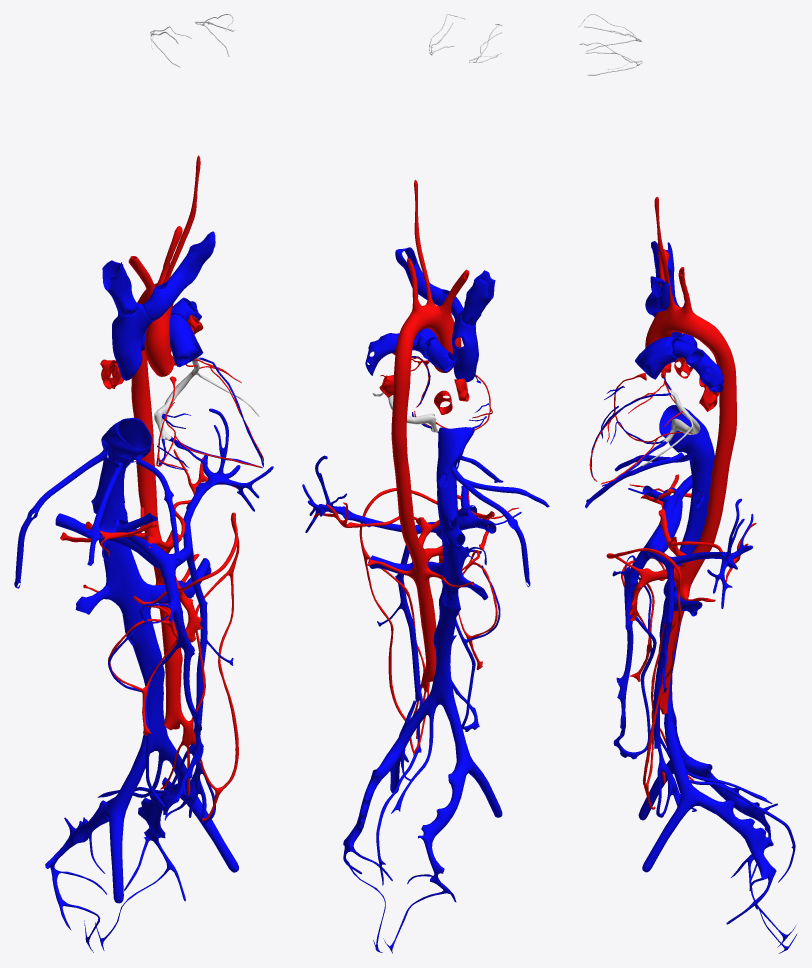
File: vh_m_blood_vasculature-20.fbx
3 views of the same model, side by side, from view 1: azimuth 30°, elevation 25°; view 2: azimuth 150°, elevation 25°; view 3: azimuth 270°, elevation 25° (orthographic). The views are drawn at different scales.
Parts seen in each view (by area): view 1: VH_M_inferior_vena_cava_b, VH_M_descending_aorta_b, VH_M_superior_mesenteric_vein, VH_M_inferior_vena_cava_a, VH_M_splenic_vein, VH_M_brachiocephalic_vein_L, VH_M_superior_vena_cava, VH_M_marginal_artery_of_Drummond, VH_M_descending_aorta_a, VH_M_brachiocephalic_vein_R, VH_M_inferior_mesenteric_vein, VH_M_pulmonary_trunk (+18 smaller); view 2: VH_M_inferior_vena_cava_b, VH_M_descending_aorta_b, VH_M_descending_aorta_a, VH_M_inferior_vena_cava_a, VH_M_internal_iliac_vein_R, VH_M_aortic_arch, VH_M_superior_vena_cava, VH_M_splenic_vein, VH_M_internal_iliac_vein_L, VH_M_brachiocephalic_vein_R, VH_M_brachiocephalic_vein_L, VH_M_marginal_artery_of_Drummond (+8 smaller); view 3: VH_M_descending_aorta_a, VH_M_descending_aorta_b, VH_M_inferior_vena_cava_b, VH_M_inferior_vena_cava_a, VH_M_internal_iliac_vein_L, VH_M_aortic_arch, VH_M_splenic_vein, VH_M_superior_mesenteric_vein, VH_M_pulmonary_artery_L, VH_M_inferior_mesenteric_vein, VH_M_internal_iliac_vein_R, VH_M_marginal_artery_of_Drummond (+13 smaller).
Boxes of the visible parts, x1,y1,x2,y2 form: VH_M_inferior_vena_cava_b: [91, 473, 169, 753]; VH_M_descending_aorta_b: [136, 459, 182, 730]; VH_M_superior_mesenteric_vein: [158, 564, 203, 812]; VH_M_inferior_vena_cava_a: [101, 417, 152, 482]; VH_M_splenic_vein: [170, 408, 273, 567]; VH_M_brachiocephalic_vein_L: [142, 231, 215, 321]; VH_M_superior_vena_cava: [112, 303, 152, 380]; VH_M_marginal_artery_of_Drummond: [179, 512, 239, 821]; VH_M_descending_aorta_a: [131, 297, 154, 461]; VH_M_brachiocephalic_vein_R: [102, 260, 137, 315]; VH_M_inferior_mesenteric_vein: [186, 548, 207, 755]; VH_M_pulmonary_trunk: [169, 313, 203, 367]; VH_M_inferior_vena_cava_b: [429, 489, 465, 707]; VH_M_descending_aorta_b: [396, 486, 436, 682]; VH_M_descending_aorta_a: [391, 343, 412, 489]; VH_M_inferior_vena_cava_a: [436, 427, 474, 493]; VH_M_internal_iliac_vein_R: [418, 762, 468, 883]; VH_M_aortic_arch: [397, 304, 459, 348]; VH_M_superior_vena_cava: [452, 310, 478, 382]; VH_M_splenic_vein: [302, 455, 440, 534]; VH_M_internal_iliac_vein_L: [343, 752, 399, 852]; VH_M_brachiocephalic_vein_R: [461, 270, 495, 325]; VH_M_brachiocephalic_vein_L: [395, 247, 463, 319]; VH_M_marginal_artery_of_Drummond: [359, 488, 437, 753]; VH_M_descending_aorta_a: [708, 333, 736, 488]; VH_M_descending_aorta_b: [657, 485, 726, 714]; VH_M_inferior_vena_cava_b: [659, 470, 712, 722]; VH_M_inferior_vena_cava_a: [659, 404, 714, 472]; VH_M_internal_iliac_vein_L: [696, 791, 776, 881]; VH_M_aortic_arch: [647, 306, 721, 348]; VH_M_splenic_vein: [645, 498, 753, 608]; VH_M_superior_mesenteric_vein: [613, 545, 651, 753]; VH_M_pulmonary_artery_L: [670, 338, 723, 392]; VH_M_inferior_mesenteric_vein: [653, 561, 674, 749]; VH_M_internal_iliac_vein_R: [684, 757, 777, 847]; VH_M_marginal_artery_of_Drummond: [606, 548, 681, 809].
Size of the model in its own units: 23.62 by 87.18 by 18.73.
